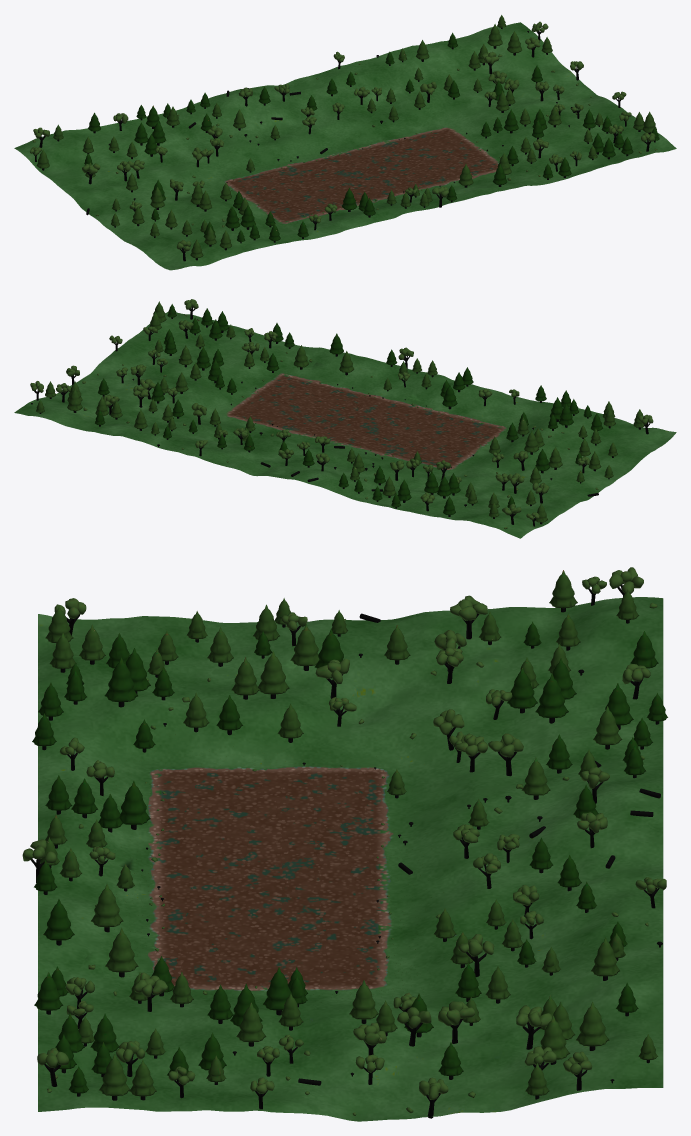
The model's file is surroundings_29x11.glb.
3 renders of one model, top to bottom at view 1: azimuth 30°, elevation 25°; view 2: azimuth 150°, elevation 25°; view 3: azimuth 270°, elevation 25°, orthographic. The views are drawn at different scales.
Parts seen in each view (by area): view 1: ground, props; view 2: ground, props; view 3: ground, props.
Part boxes in pixels (left/top/right/bottom): ground: left=14, top=22, right=676, bottom=270; props: left=30, top=15, right=659, bottom=261; ground: left=14, top=312, right=676, bottom=538; props: left=30, top=299, right=653, bottom=529; ground: left=38, top=597, right=663, bottom=1121; props: left=22, top=567, right=667, bottom=1118.
Bounding box in the file's own units: 74.23 × 5.74 × 40.29.
Materials: 3 (3 with a texture image).
